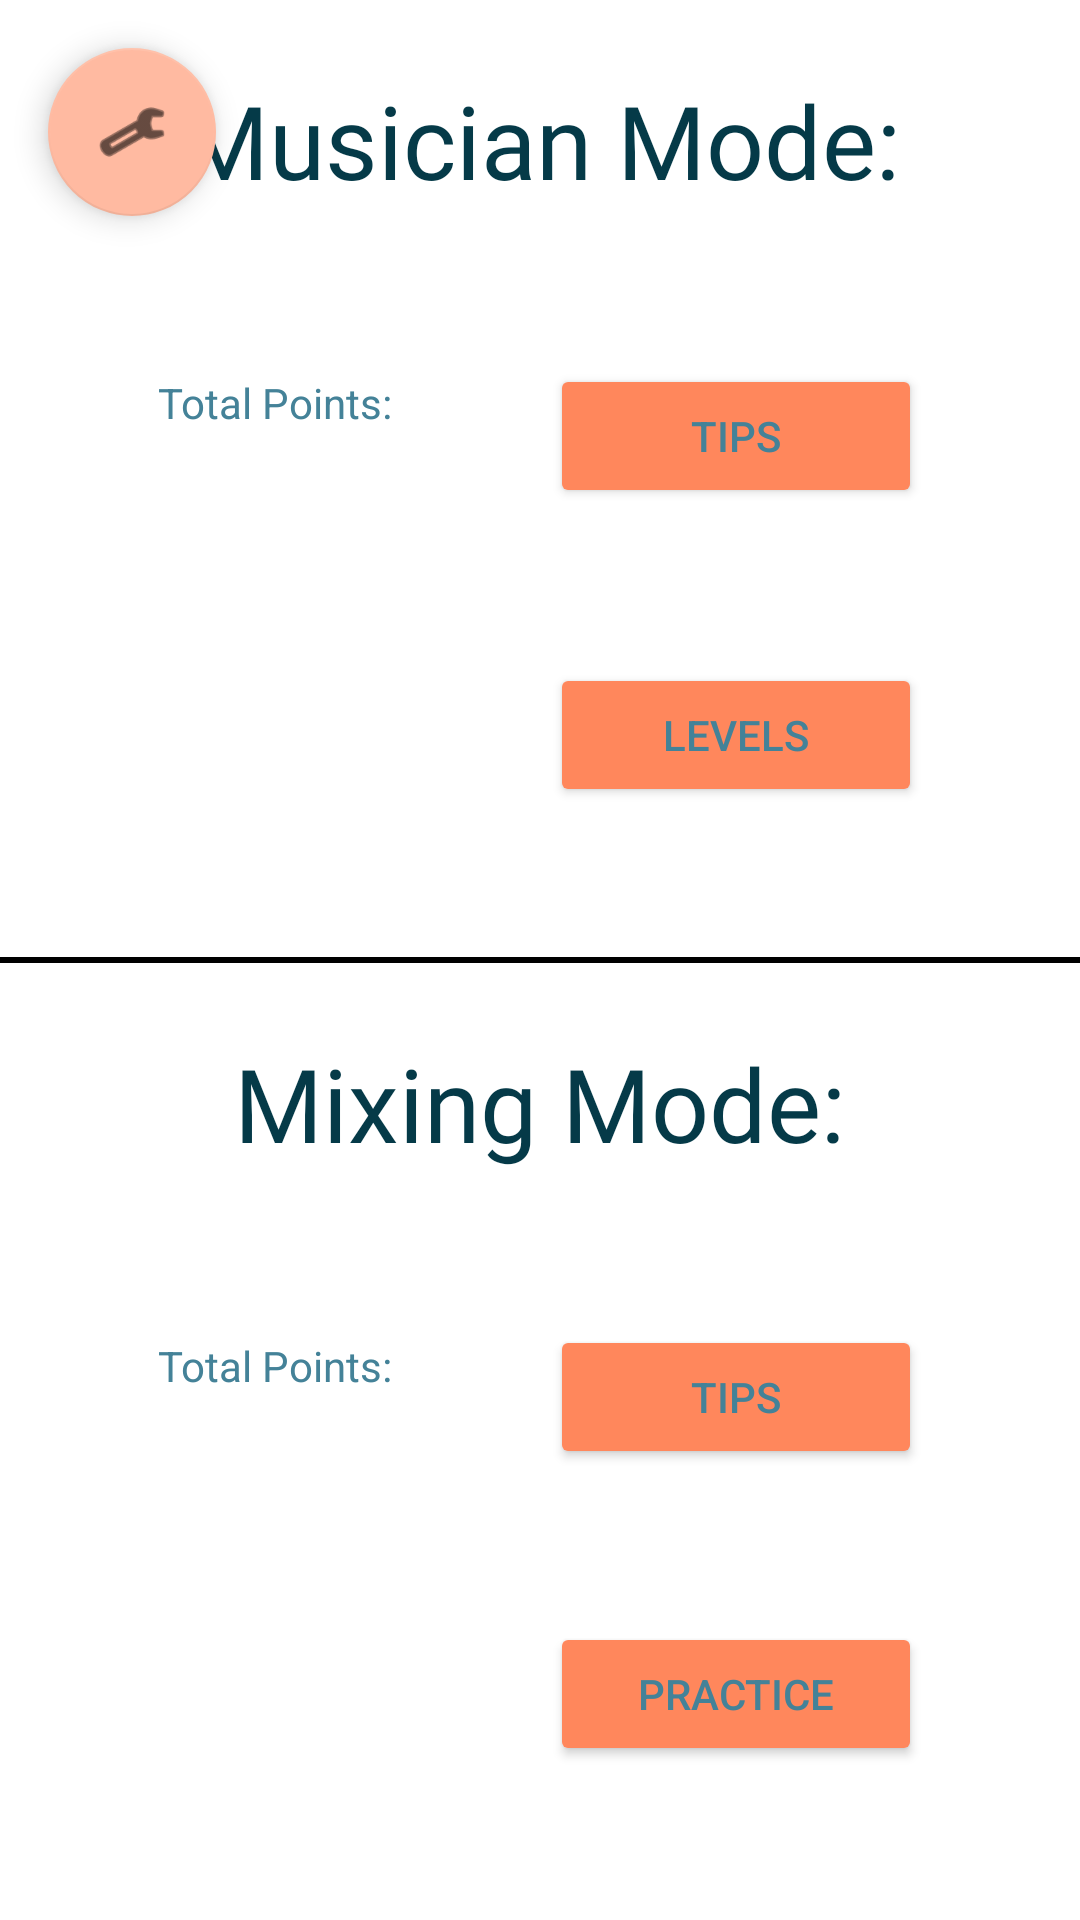

Icon click points for this 1080 x 1920 phone screenshot, format [x,y]:
manage: [132,132]
